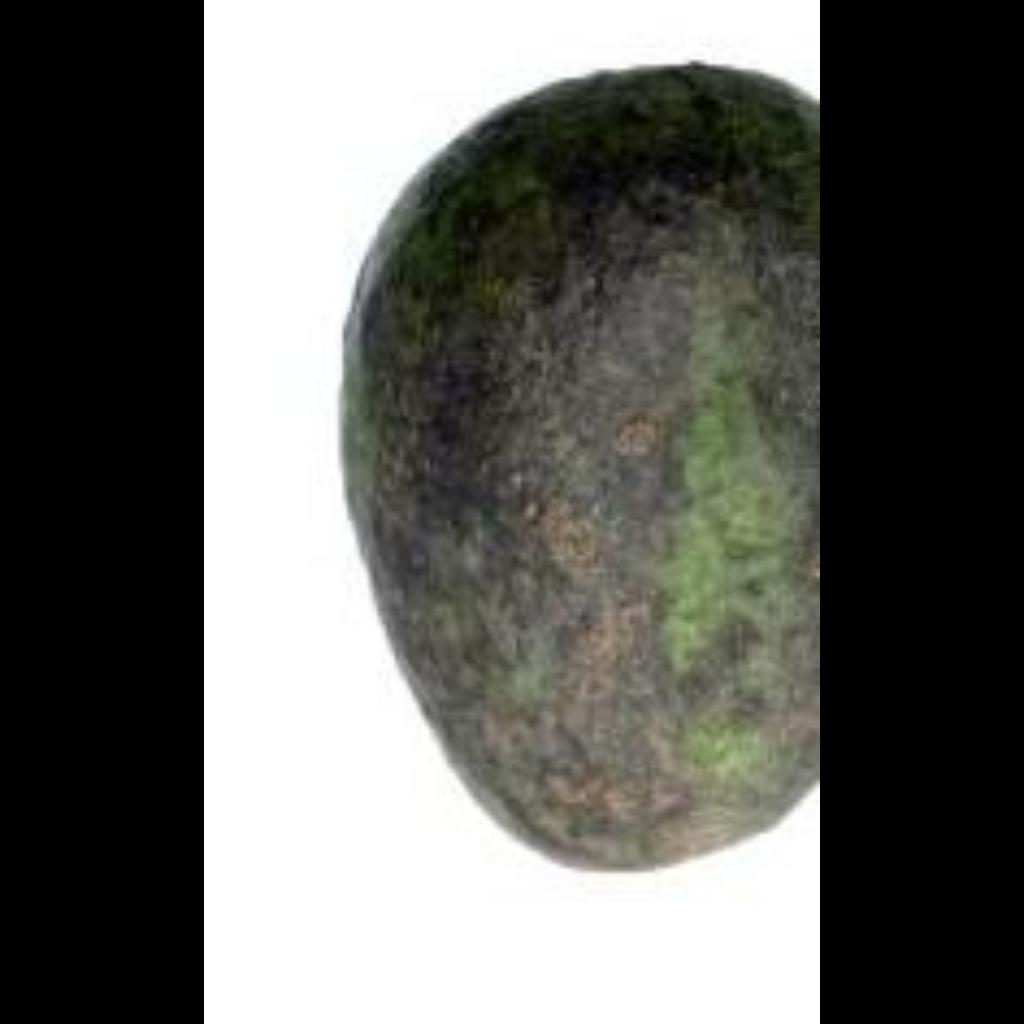Anthracnose: (390, 124, 820, 766)
